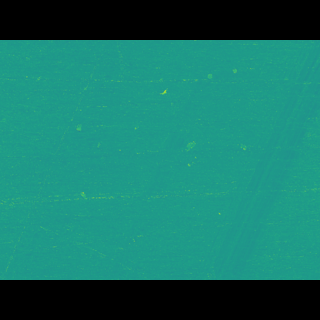Loch: (195, 70, 320, 250), (105, 86, 221, 251), (182, 144, 199, 157), (74, 131, 86, 140)
